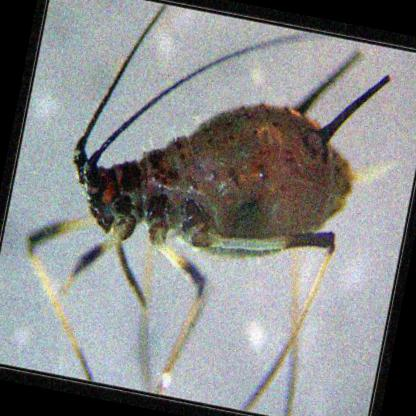uroleucon compositae: (70, 5, 394, 297)
